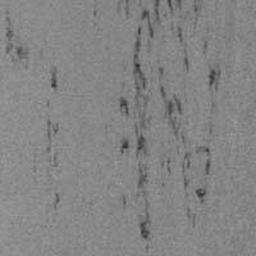Inclusion: (114, 0, 214, 251), (32, 120, 59, 186), (4, 8, 29, 70), (201, 37, 223, 92), (49, 67, 56, 91), (52, 192, 60, 210), (92, 9, 97, 27)
